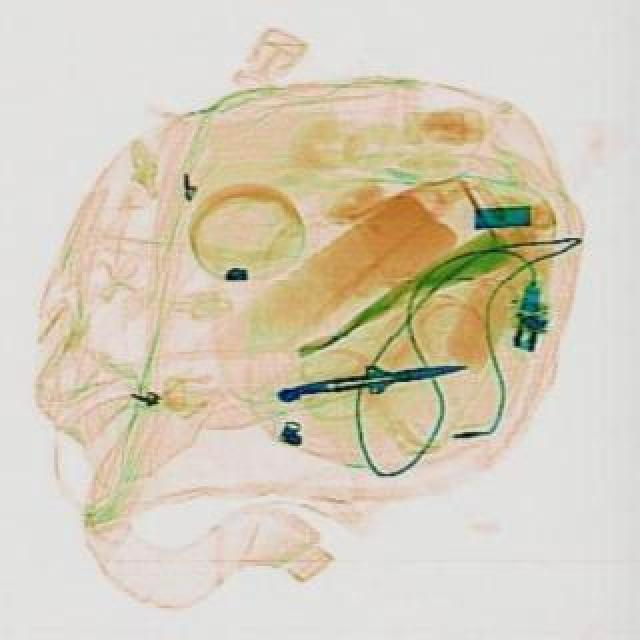knife: (304, 356, 474, 410)
